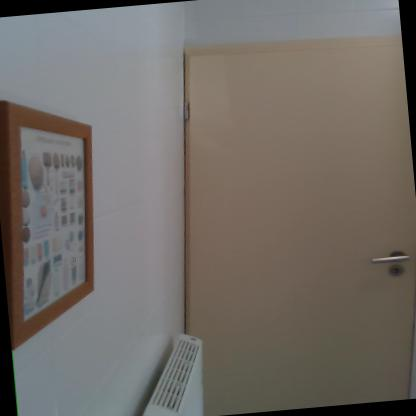closed: (172, 13, 415, 415)
